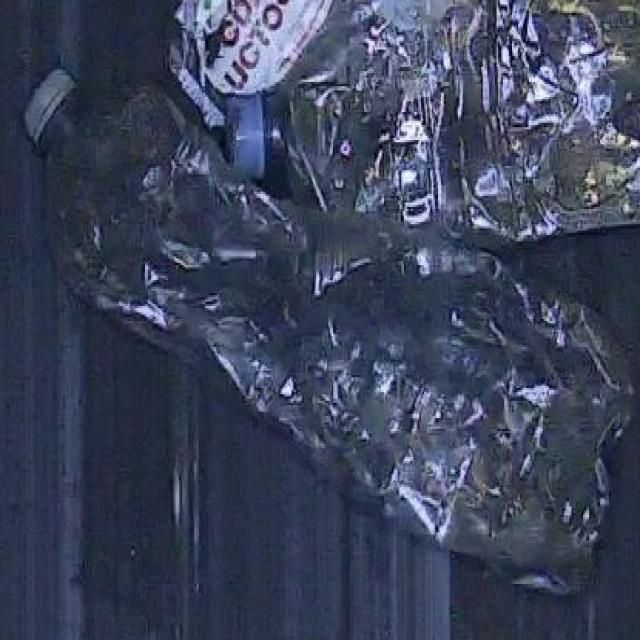plasticbottle: (15, 32, 640, 635), (205, 0, 640, 266)
